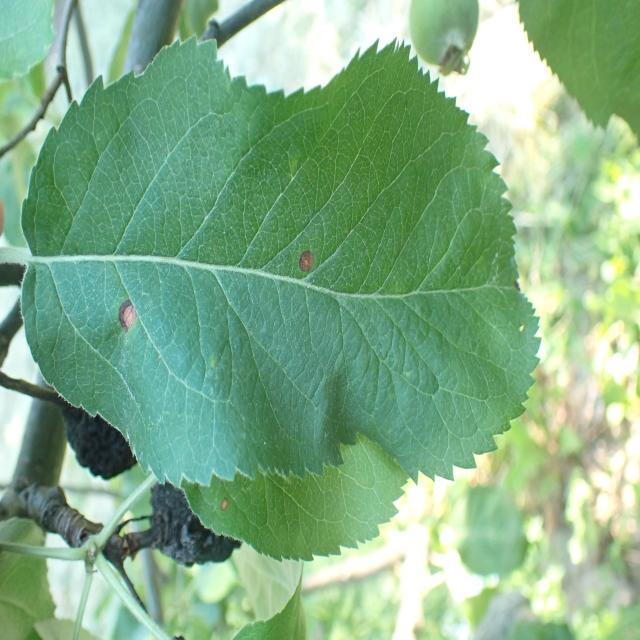Black Rot: (280, 234, 332, 294), (101, 295, 153, 345)
